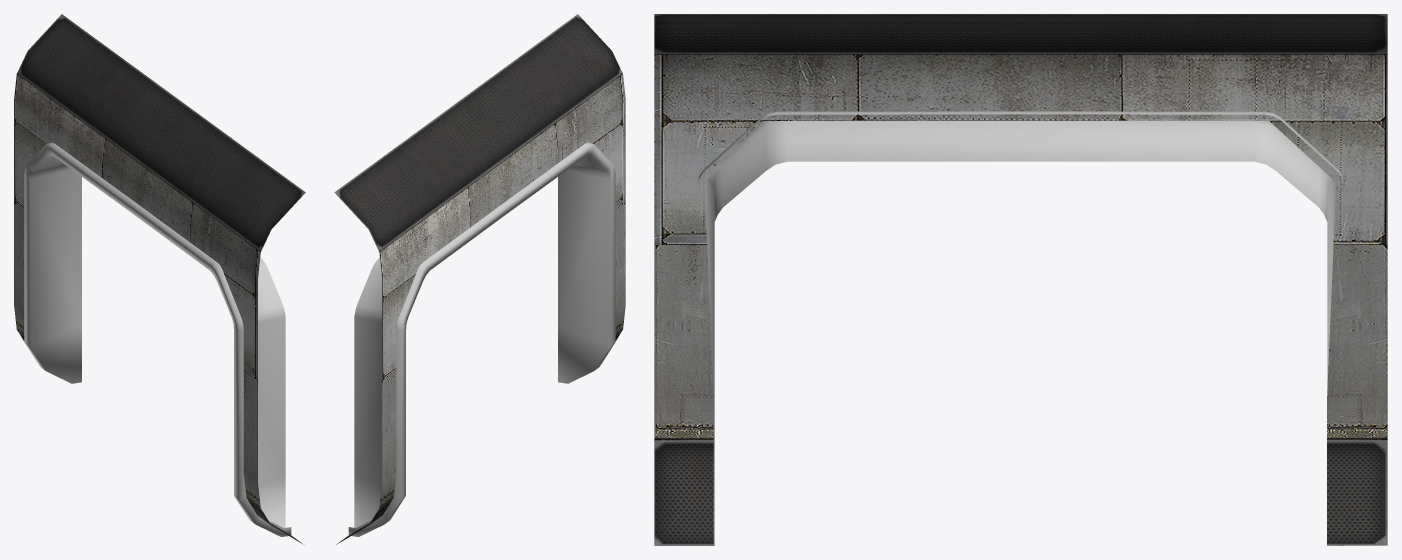
Rendered from Wall_B_Mid4mts_13.fbx.
3 views of the same model, side by side, from view 1: azimuth 30°, elevation 25°; view 2: azimuth 150°, elevation 25°; view 3: azimuth 270°, elevation 25° (orthographic). The views are drawn at different scales.
Parts seen in each view (by area): view 1: Wall_B_Mid4mts_13; view 2: Wall_B_Mid4mts_13; view 3: Wall_B_Mid4mts_13.
Part boxes in pixels (<box>): Wall_B_Mid4mts_13: <box>14,14,305,544</box>; Wall_B_Mid4mts_13: <box>334,14,625,544</box>; Wall_B_Mid4mts_13: <box>654,14,1387,545</box>.
Bounding box in the file's own units: 61.55 × 400 × 500.
